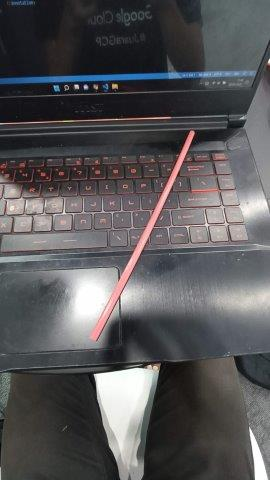sedotan: (90, 131, 194, 342)
